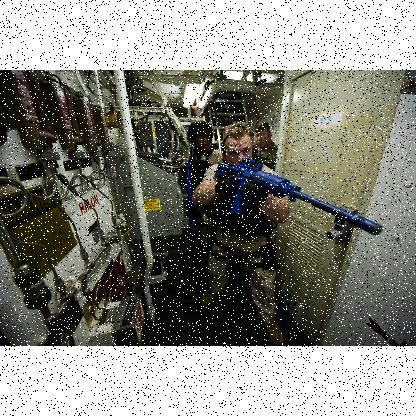gun: (200, 150, 384, 256)
